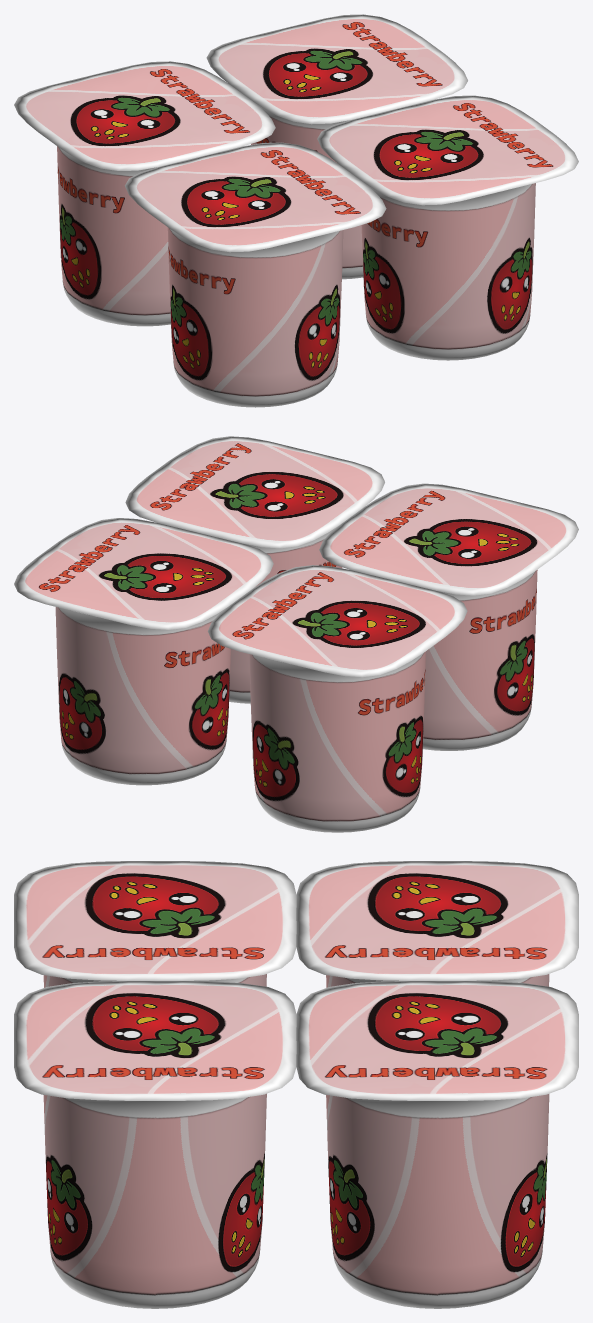
File: yogurt.glb
3 renders of one model, top to bottom at view 1: azimuth 30°, elevation 25°; view 2: azimuth 150°, elevation 25°; view 3: azimuth 270°, elevation 25°, orthographic. The views are drawn at different scales.
Visible parts, largest first — view 1: Cylinder008, Cylinder007, Cylinder009, Cylinder010; view 2: Cylinder009, Cylinder010, Cylinder008, Cylinder007; view 3: Cylinder010, Cylinder007, Cylinder009, Cylinder008.
Part boxes in pixels (x1=…): Cylinder008: x1=125, y1=142, x2=386, y2=407; Cylinder007: x1=317, y1=95, x2=578, y2=360; Cylinder009: x1=14, y1=61, x2=275, y2=326; Cylinder010: x1=206, y1=14, x2=467, y2=279; Cylinder009: x1=207, y1=565, x2=467, y2=832; Cylinder010: x1=14, y1=518, x2=273, y2=785; Cylinder008: x1=319, y1=483, x2=578, y2=750; Cylinder007: x1=125, y1=436, x2=384, y2=703; Cylinder010: x1=296, y1=981, x2=578, y2=1308; Cylinder007: x1=14, y1=981, x2=296, y2=1308; Cylinder009: x1=296, y1=861, x2=578, y2=987; Cylinder008: x1=14, y1=861, x2=296, y2=987.
Size of the model in its own units: 14.48 by 6.61 by 14.41.
1 material, 1 textured.
